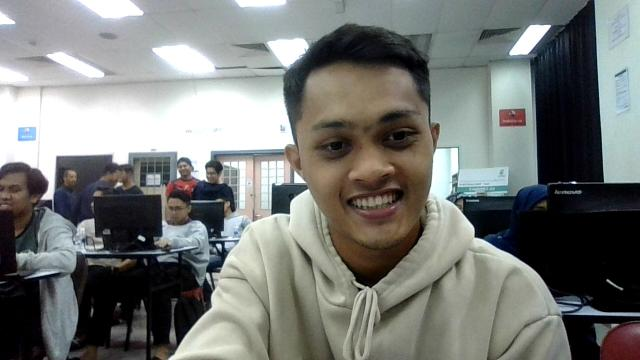senang: (299, 76, 432, 236)
